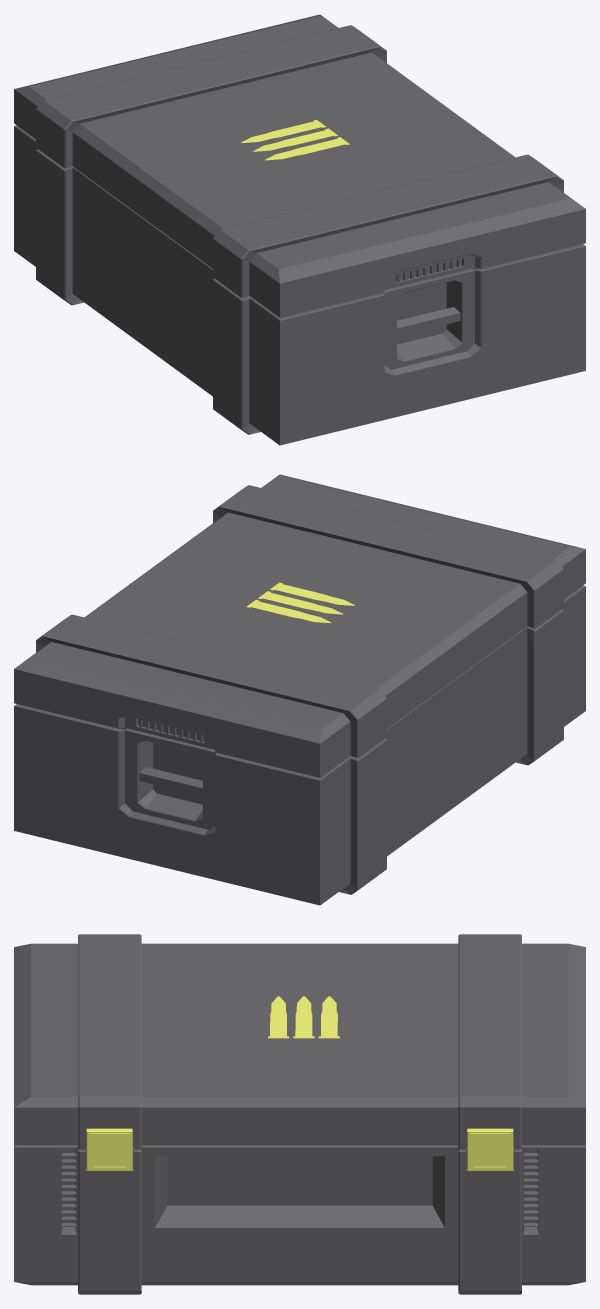
File: ammoChest.fbx
The picture shows the model from 3 angles, top to bottom: view 1: azimuth 30°, elevation 25°; view 2: azimuth 150°, elevation 25°; view 3: azimuth 270°, elevation 25°; orthographic projection. The views are drawn at different scales.
Parts seen in each view (by area): view 1: Cube; view 2: Cube; view 3: Cube.
Part boxes in pixels (x1,y1,x2,y2): Cube: [14, 14, 585, 445]; Cube: [14, 474, 585, 905]; Cube: [14, 934, 585, 1294].
Size of the model in its own units: 173 by 93.43 by 244.
